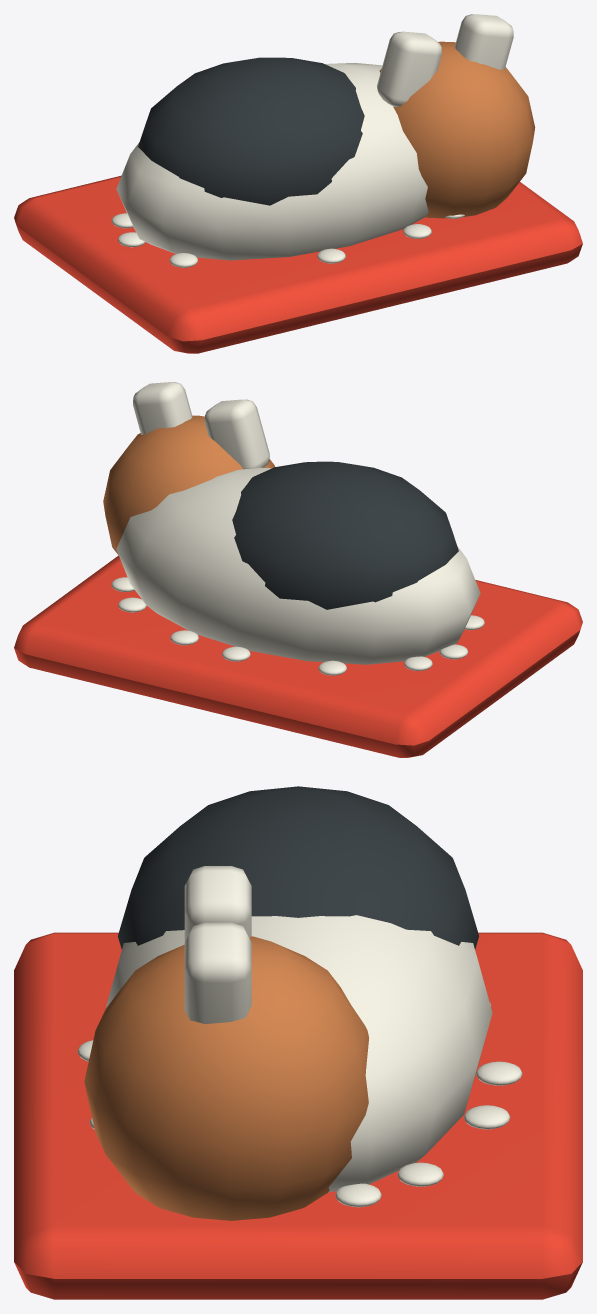
Rendered from JPN-24.glb.
3 views of the same model, one above another, from view 1: azimuth 30°, elevation 25°; view 2: azimuth 150°, elevation 25°; view 3: azimuth 270°, elevation 25° (orthographic). The views are drawn at different scales.
Visible parts, largest first — view 1: red cushion, calico patch, calico body, head, ear, ear.001; view 2: red cushion, calico body, calico patch, head, ear, ear.001; view 3: red cushion, head, calico patch, calico body, ear.001, ear, cushion motif.008, cushion motif.003, cushion motif, cushion motif.011.
Part boxes in pixels (x1,y1,x2,y2): red cushion: (14,175,582,353); calico patch: (138,57,364,205); calico body: (116,63,428,260); head: (379,41,535,218); ear: (377,31,441,106); ear.001: (454,14,513,69); red cushion: (14,555,582,757); calico body: (116,467,480,664); calico patch: (232,461,458,609); head: (103,415,274,555); ear: (204,399,269,469); ear.001: (133,382,192,434); red cushion: (14,932,582,1299); head: (84,936,368,1220); calico patch: (118,786,478,949); calico body: (105,915,492,1192); ear.001: (184,922,251,1023); ear: (184,866,251,941); cushion motif.008: (463,1105,510,1129); cushion motif.003: (397,1162,443,1186); cushion motif: (476,1061,522,1085); cushion motif.011: (335,1183,381,1207).
Size of the model in its own units: 1.15 by 0.5748 by 0.85.
